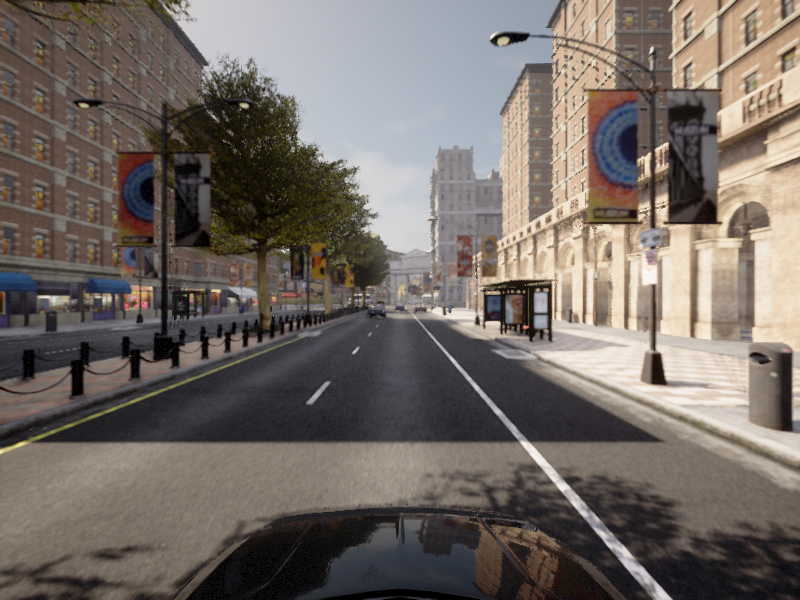vehicle: (259, 302, 274, 323), (366, 305, 386, 318)
